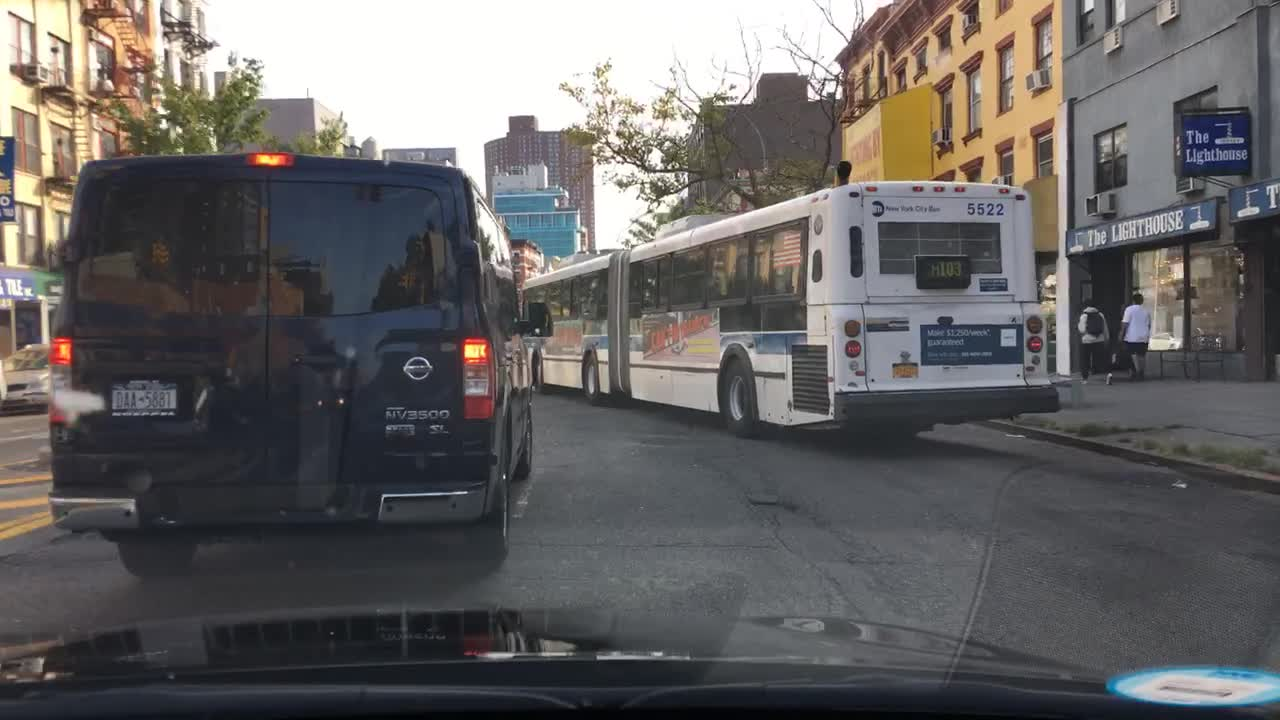bus: (523, 179, 1059, 449)
car: (47, 151, 554, 587), (1, 342, 51, 411)
person: (1077, 296, 1112, 386), (1115, 293, 1149, 383)
